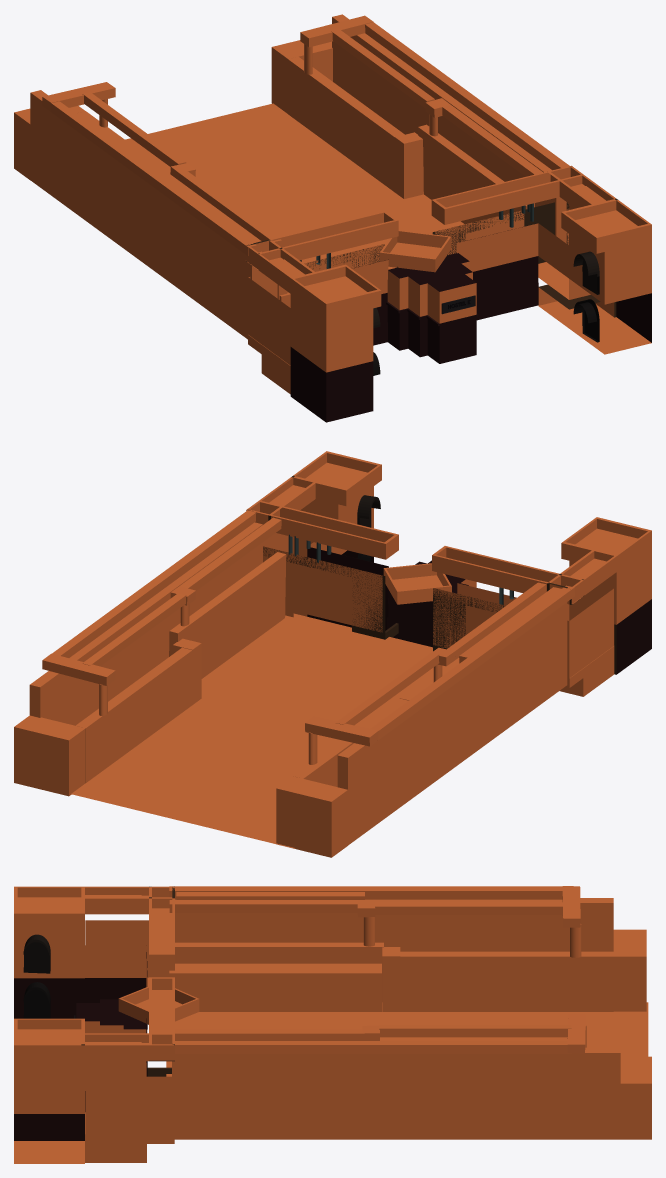
File: Hostelg.obj
The picture shows the model from 3 angles, top to bottom: view 1: azimuth 30°, elevation 25°; view 2: azimuth 150°, elevation 25°; view 3: azimuth 270°, elevation 25°; orthographic projection.
Parts seen in each view (by area): view 1: Cube.004_Cube.001, Plane; view 2: Cube.004_Cube.001, Plane; view 3: Cube.004_Cube.001, Plane.
Part boxes in pixels (x1,y1,x2,y2): Cube.004_Cube.001: (14,14,651,422); Plane: (125,103,464,269); Cube.004_Cube.001: (14,451,651,857); Plane: (71,613,459,848); Cube.004_Cube.001: (14,886,651,1163); Plane: (166,1002,648,1076).
Bounding box in the file's own units: 10.6 × 3.69 × 17.96.
